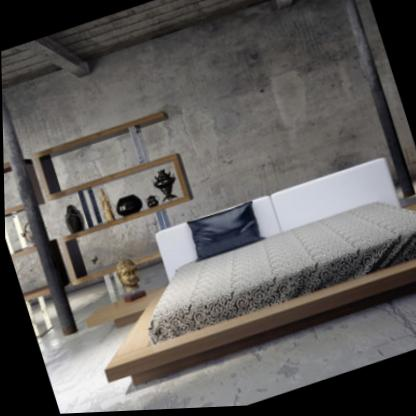Bed: (103, 161, 416, 389)
